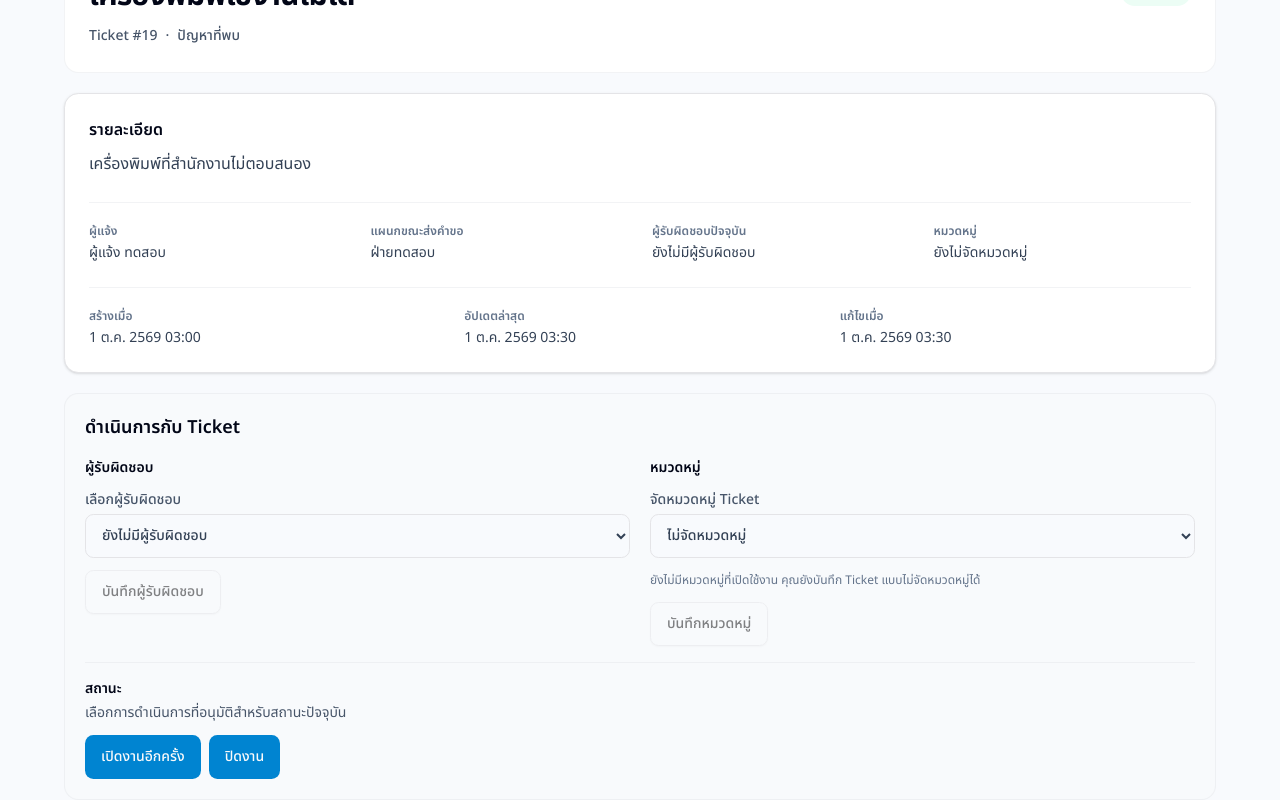
Test: ITTicketOperatorDetail terminal transition confirmation › prevents duplicate submissions and disables conflicting actions while pending
(page scrolled)
Expected: the text "Ticket #19·ปัญหาที่พบ" is shown, [89, 24, 240, 46]
What coordinates should you click on to do the following:
click the button "ปิดงาน"
I would click on:
 (244, 756)
Its box is [209, 734, 280, 778].
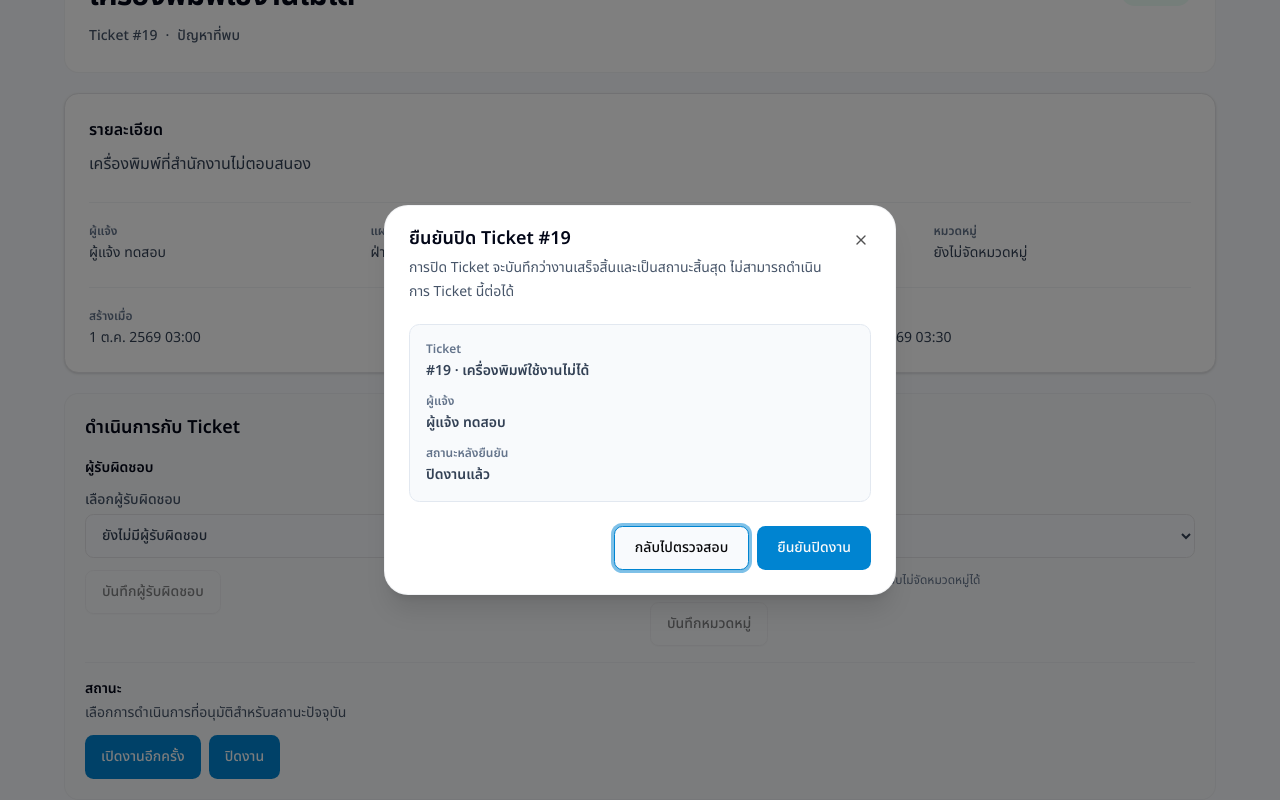
What coordinates should you click on to do the following:
click the button "ยืนยันปิดงาน"
I would click on:
 (814, 548)
Its box is [757, 526, 871, 570].
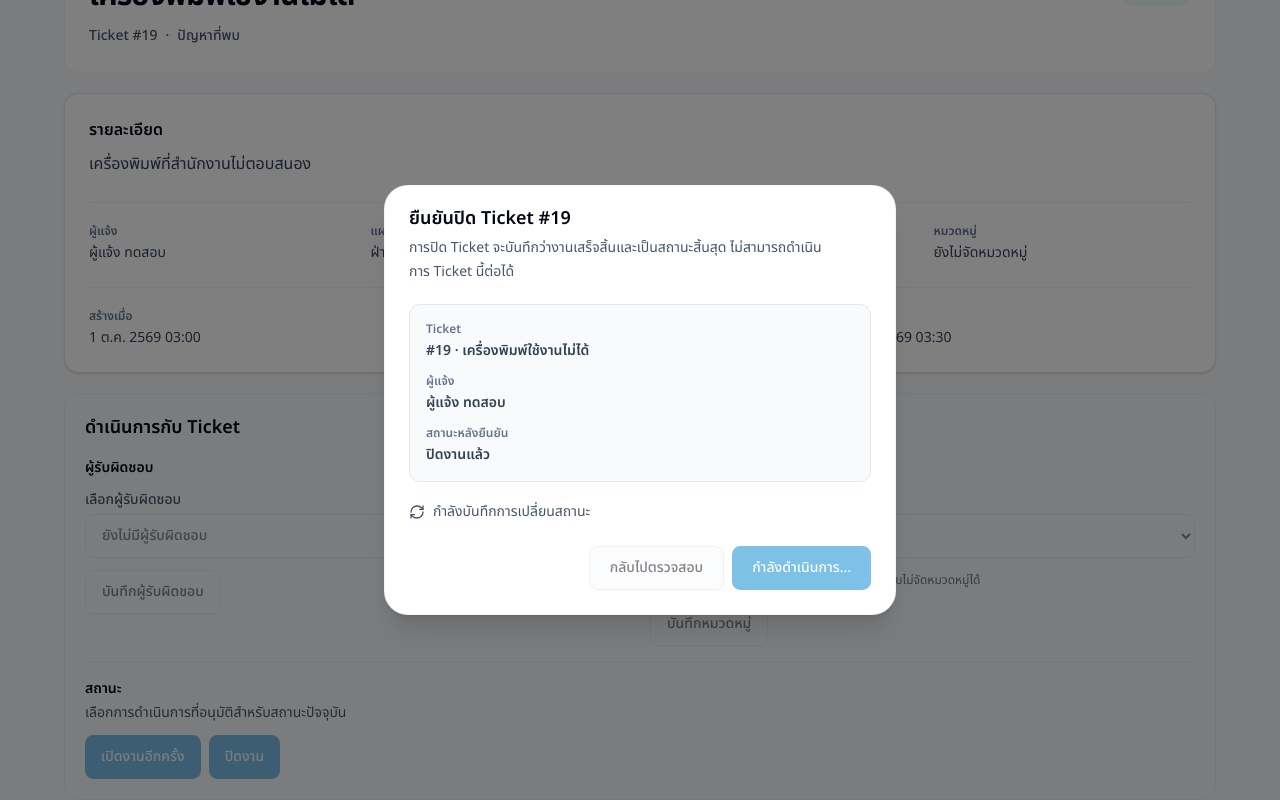
Now the button "กำลังดำเนินการ…" is disabled
Now the button "เปิดงานอีกครั้ง" is disabled, box [85, 734, 201, 778]
What coordinates should you click on to do the following:
click the button "กำลังดำเนินการ…"
I would click on:
 (802, 568)
Its box is [732, 546, 871, 590].
(page scrolled)
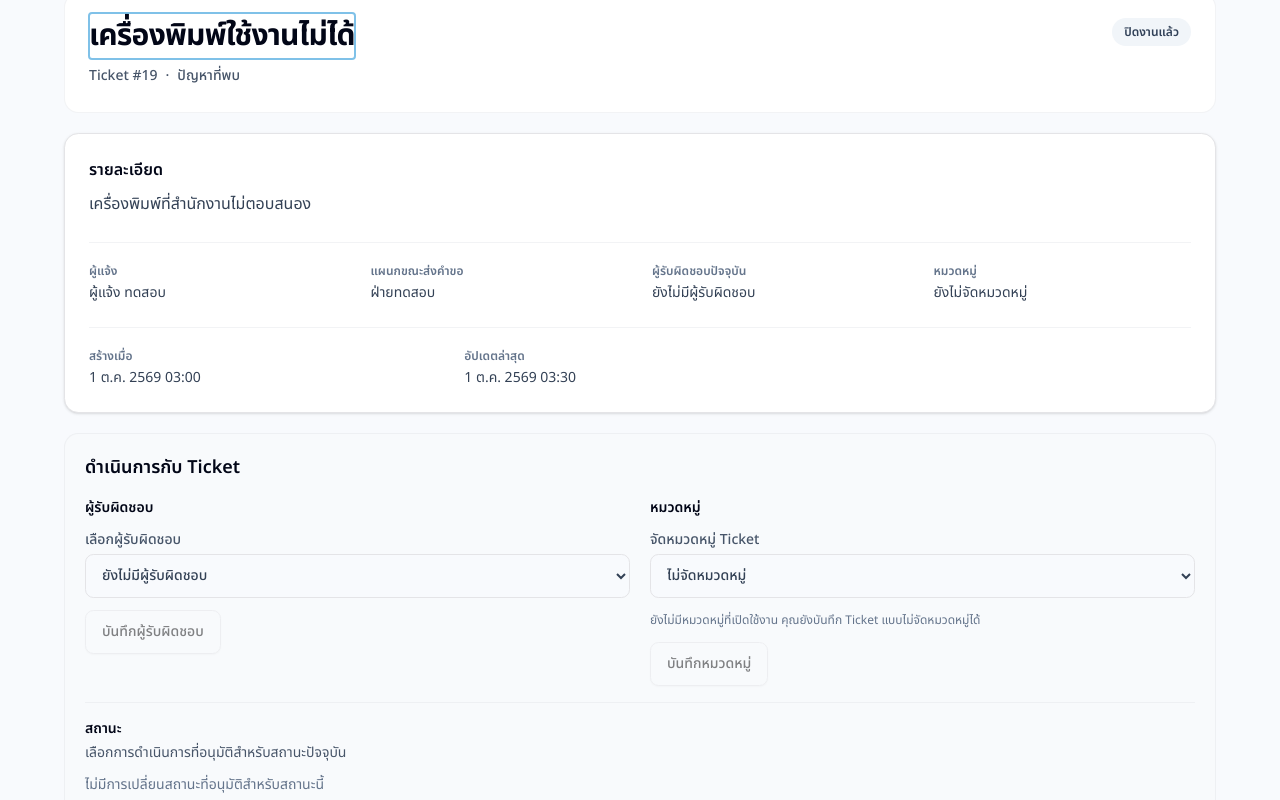
Now the dialog is gone
